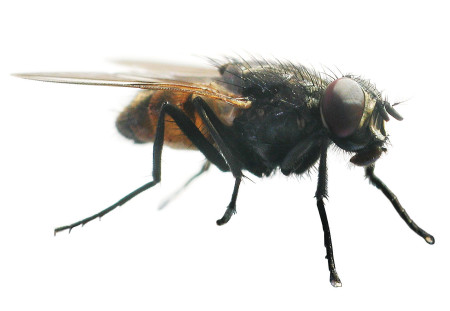fly: (9, 51, 440, 290)
